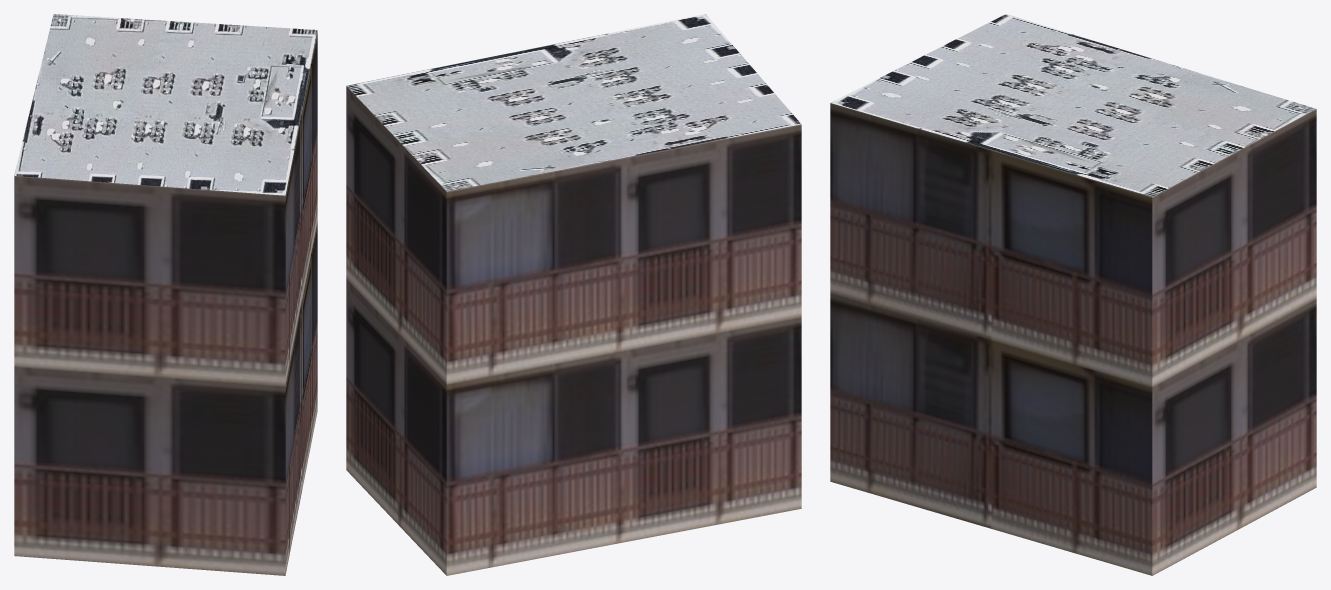
The model's file is ResTex__2181.fbx.
The picture shows the model from 3 angles, left to right: view 1: azimuth 30°, elevation 25°; view 2: azimuth 150°, elevation 25°; view 3: azimuth 270°, elevation 25°; orthographic projection.
Visible parts, largest first — view 1: CityEngineMaterial_6_m, CityEngineMaterial_4_m; view 2: CityEngineMaterial_6_m, CityEngineMaterial_4_m; view 3: CityEngineMaterial_6_m, CityEngineMaterial_4_m.
Boxes of the visible parts, x1,y1,x2,y2 form: CityEngineMaterial_6_m: [14, 32, 317, 575]; CityEngineMaterial_4_m: [14, 14, 317, 195]; CityEngineMaterial_6_m: [346, 86, 801, 575]; CityEngineMaterial_4_m: [346, 14, 801, 191]; CityEngineMaterial_6_m: [830, 103, 1316, 575]; CityEngineMaterial_4_m: [831, 14, 1315, 197].
Size of the model in its own units: 6.23 by 6 by 6.98.
2 materials, 2 textured.
